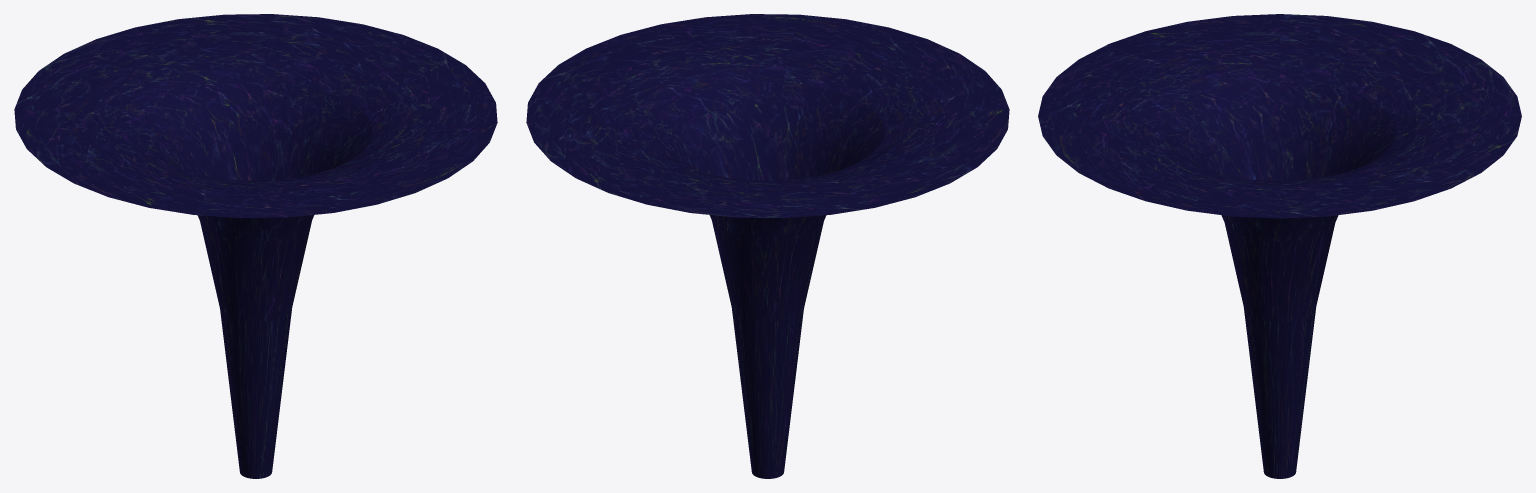
Rendered from Vortex.fbx.
3 views of the same model, side by side, from view 1: azimuth 30°, elevation 25°; view 2: azimuth 150°, elevation 25°; view 3: azimuth 270°, elevation 25° (orthographic).
Visible parts, largest first — view 1: Vortex, Track1, Track3, Track2, Track4, Track5, Track6; view 2: Vortex, Track1, Track3, Track2, Track4, Track5, Track6; view 3: Vortex, Track1, Track3, Track2, Track4, Track5, Track6.
Part boxes in pixels (x1=…): Vortex: x1=139, y1=82, x2=372, y2=478; Track1: x1=14, y1=14, x2=497, y2=218; Track3: x1=54, y1=32, x2=457, y2=201; Track2: x1=34, y1=22, x2=477, y2=209; Track4: x1=79, y1=43, x2=432, y2=192; Track5: x1=99, y1=54, x2=412, y2=186; Track6: x1=119, y1=66, x2=392, y2=181; Vortex: x1=651, y1=82, x2=884, y2=478; Track1: x1=526, y1=14, x2=1009, y2=218; Track3: x1=566, y1=32, x2=969, y2=201; Track2: x1=546, y1=22, x2=989, y2=209; Track4: x1=591, y1=43, x2=944, y2=192; Track5: x1=611, y1=54, x2=924, y2=186; Track6: x1=631, y1=66, x2=904, y2=181; Vortex: x1=1163, y1=82, x2=1396, y2=478; Track1: x1=1038, y1=14, x2=1521, y2=218; Track3: x1=1078, y1=32, x2=1481, y2=202; Track2: x1=1058, y1=22, x2=1501, y2=210; Track4: x1=1102, y1=43, x2=1457, y2=193; Track5: x1=1122, y1=54, x2=1437, y2=186; Track6: x1=1143, y1=66, x2=1416, y2=182.
Size of the model in its own units: 150 by 122 by 150.
